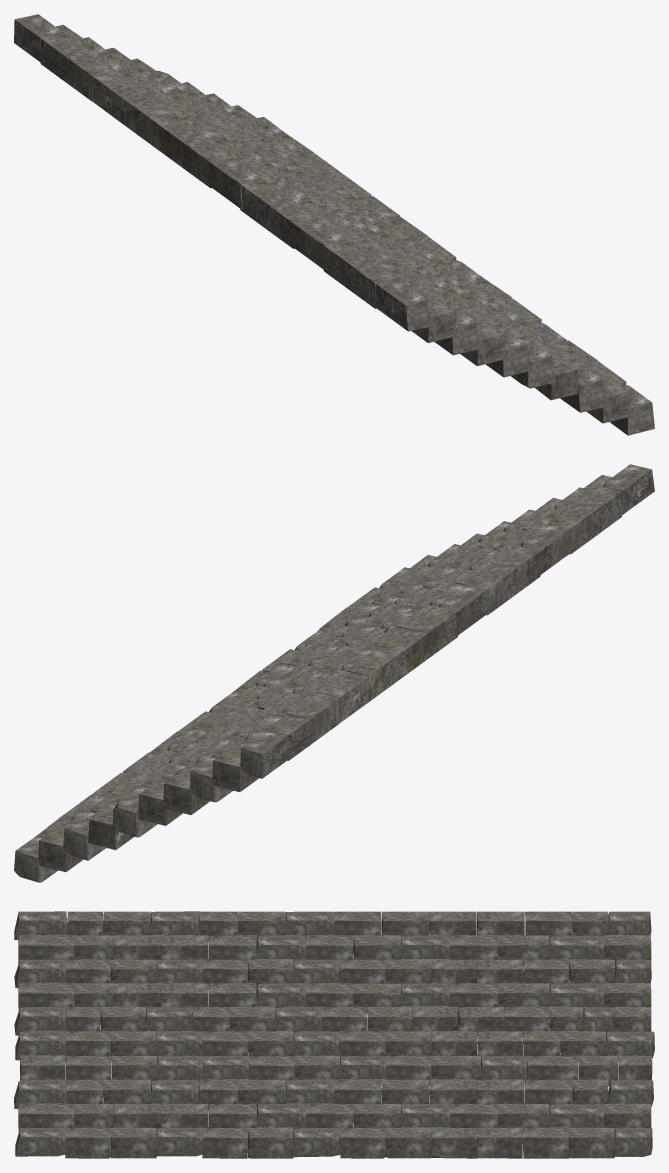
File: SM_Stairs_4M.fbx
The picture shows the model from 3 angles, top to bottom: view 1: azimuth 30°, elevation 25°; view 2: azimuth 150°, elevation 25°; view 3: azimuth 270°, elevation 25°; orthographic projection. The views are drawn at different scales.
Parts seen in each view (by area): view 1: SM_Stairs_4M_LOD0; view 2: SM_Stairs_4M_LOD0; view 3: SM_Stairs_4M_LOD0.
Part boxes in pixels (left/top/right/bottom): SM_Stairs_4M_LOD0: left=14, top=14, right=654, bottom=435; SM_Stairs_4M_LOD0: left=14, top=464, right=654, bottom=882; SM_Stairs_4M_LOD0: left=14, top=911, right=654, bottom=1158.
Size of the model in its own units: 299 by 820 by 210.
